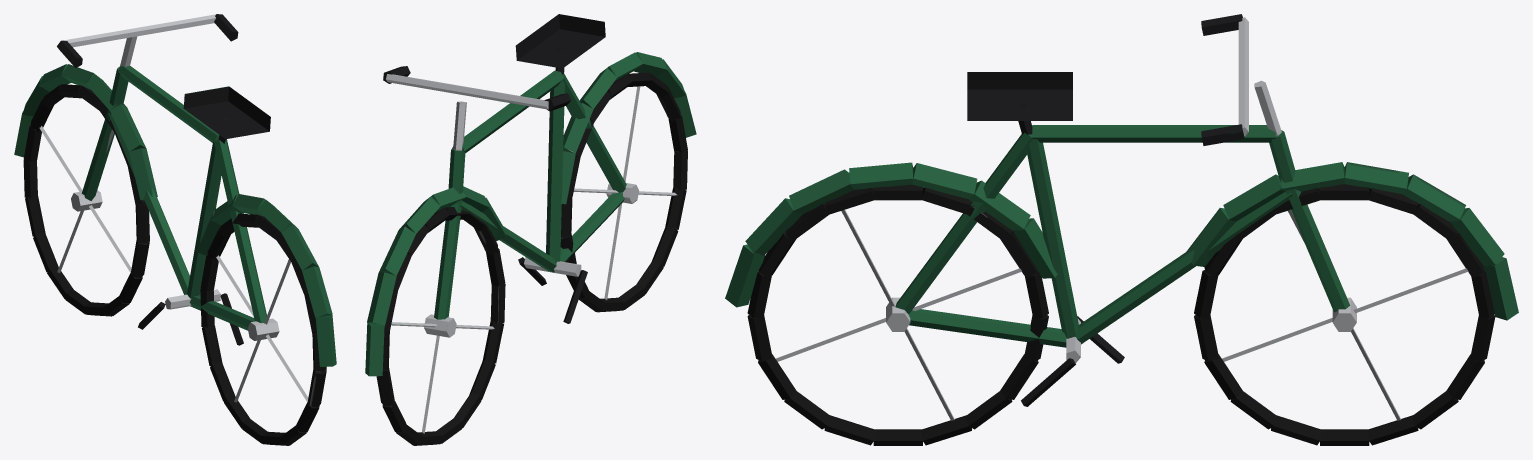
Rendered from kolo_038040d2.glb.
The picture shows the model from 3 angles, left to right: view 1: azimuth 30°, elevation 25°; view 2: azimuth 150°, elevation 25°; view 3: azimuth 270°, elevation 25°; orthographic projection. The views are drawn at different scales.
Visible parts, largest first — view 1: dum; view 2: dum; view 3: dum.
Part boxes in pixels (x1,y1,x2,y2): dum: [14, 14, 336, 445]; dum: [365, 14, 696, 445]; dum: [725, 14, 1518, 445].
Size of the model in its own units: 0.5947 by 1.07 by 1.95.
1 material, 1 textured.
